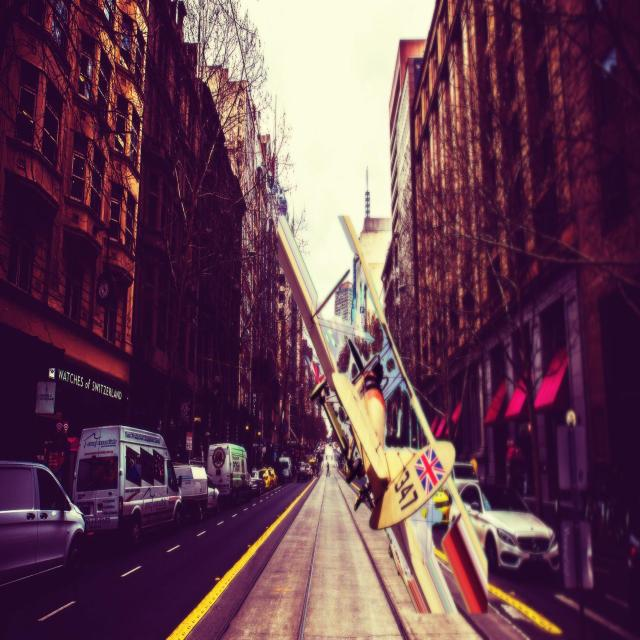airplane: (277, 210, 488, 614)
